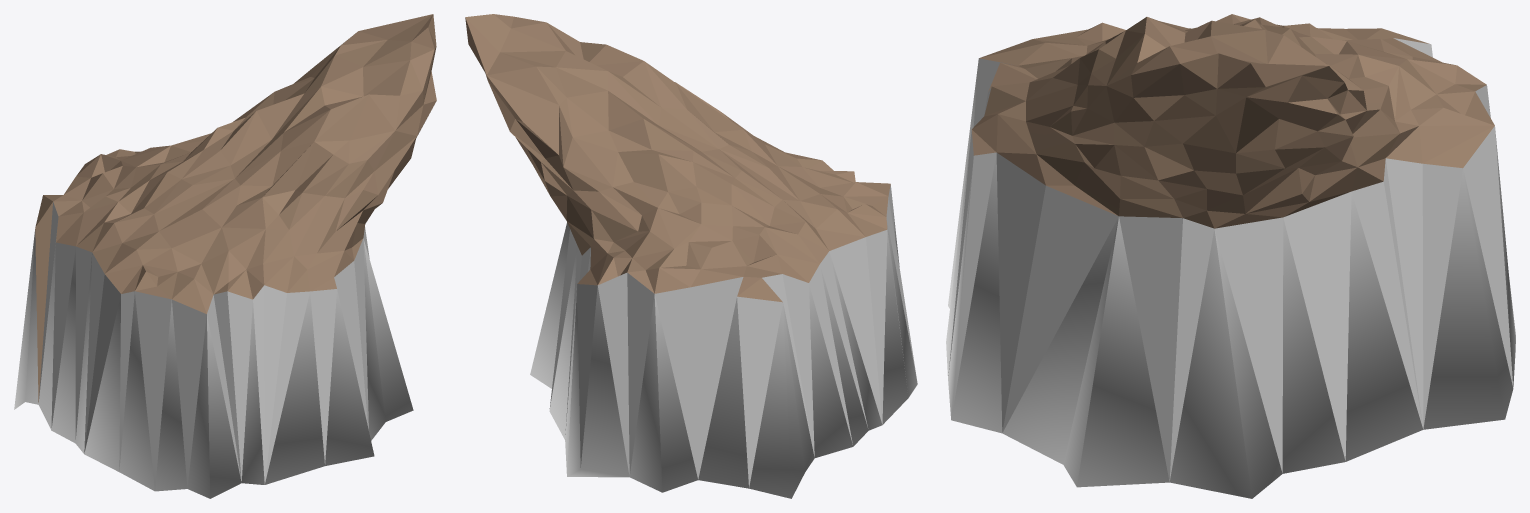
File: Mountain_06.fbx
3 views of the same model, side by side, from view 1: azimuth 30°, elevation 25°; view 2: azimuth 150°, elevation 25°; view 3: azimuth 270°, elevation 25° (orthographic). The views are drawn at different scales.
Visible parts, largest first — view 1: Mountain_06; view 2: Mountain_06; view 3: Mountain_06.
Part boxes in pixels (x1,y1,x2,y2): Mountain_06: (14, 14, 436, 498); Mountain_06: (465, 14, 917, 498); Mountain_06: (946, 14, 1515, 498).
Bounding box in the file's own units: 5970 × 5147 × 5369.
